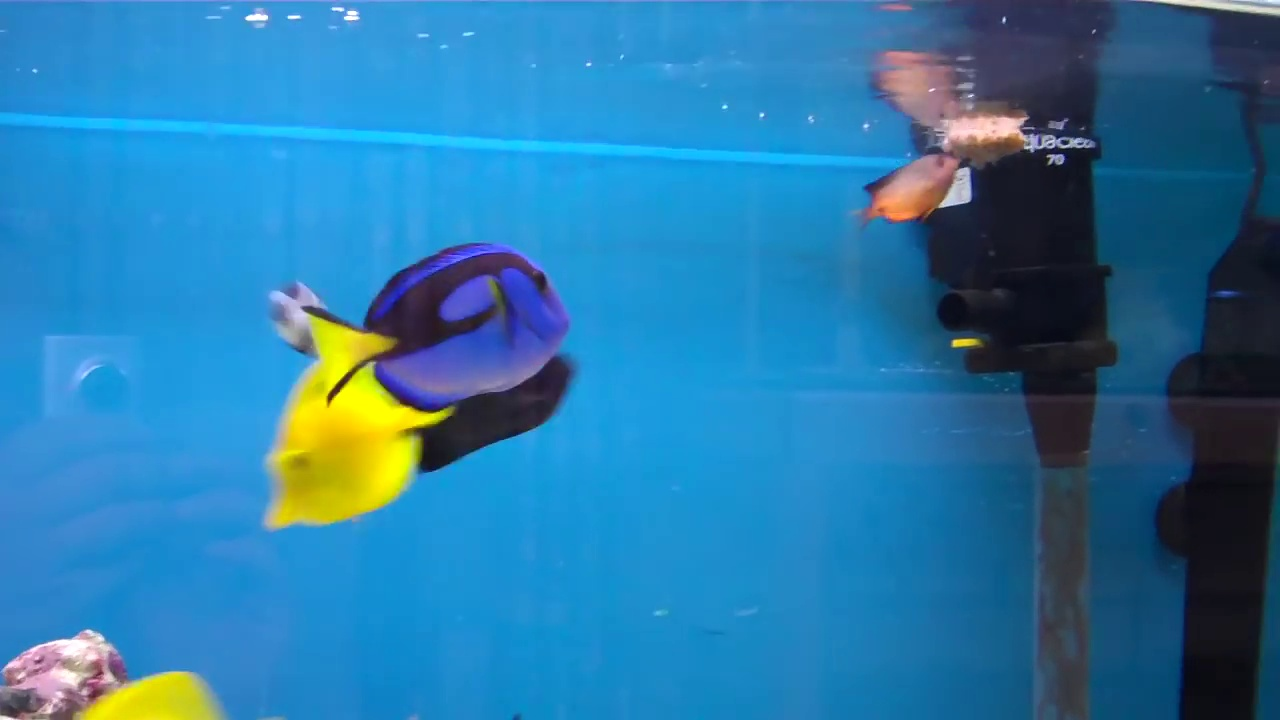blue tang surgeonfish: (298, 240, 590, 417)
saddle butterfly fish: (253, 339, 420, 539)
